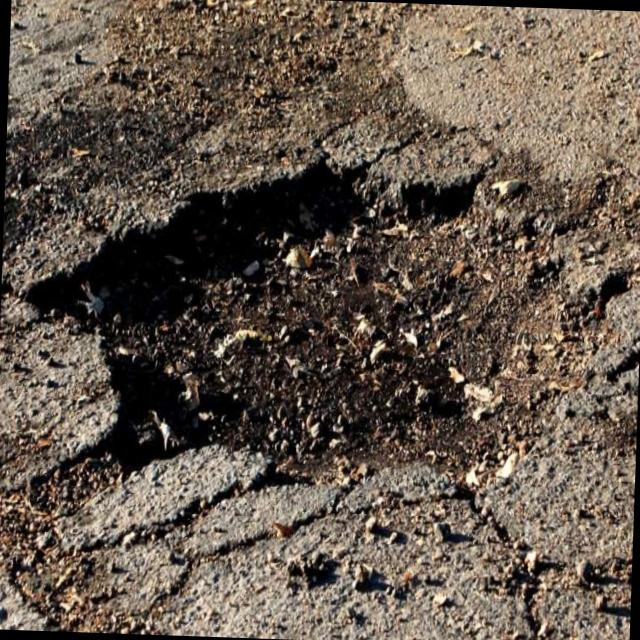Potholes: (3, 150, 640, 555)
